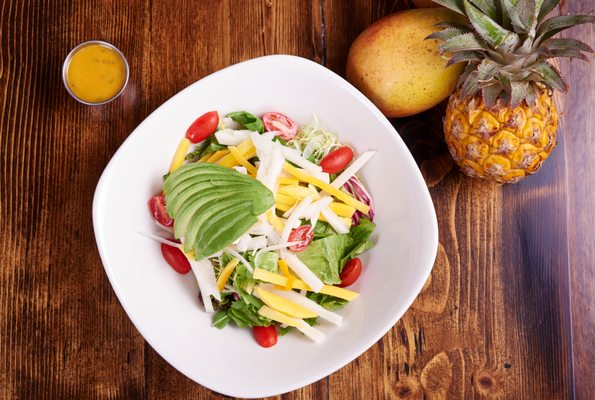pizza: (62, 39, 130, 106)
sushi: (84, 54, 439, 393), (61, 40, 130, 106)
